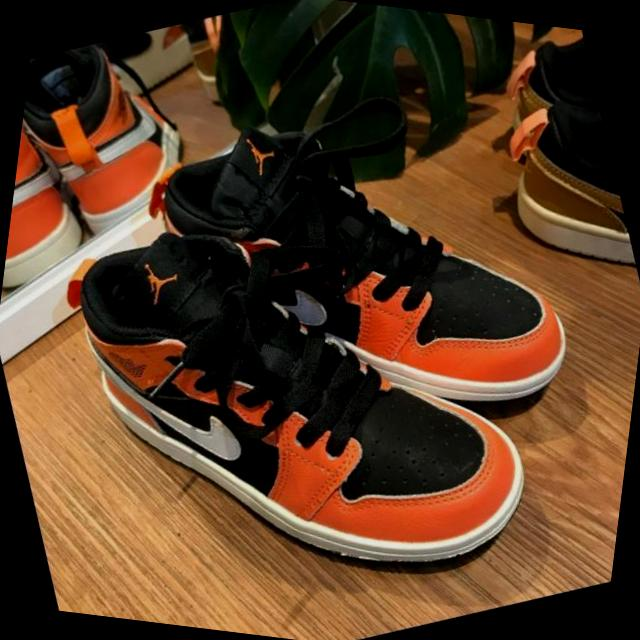nike_fake_jordan: (23, 121, 588, 640), (105, 24, 624, 514)
